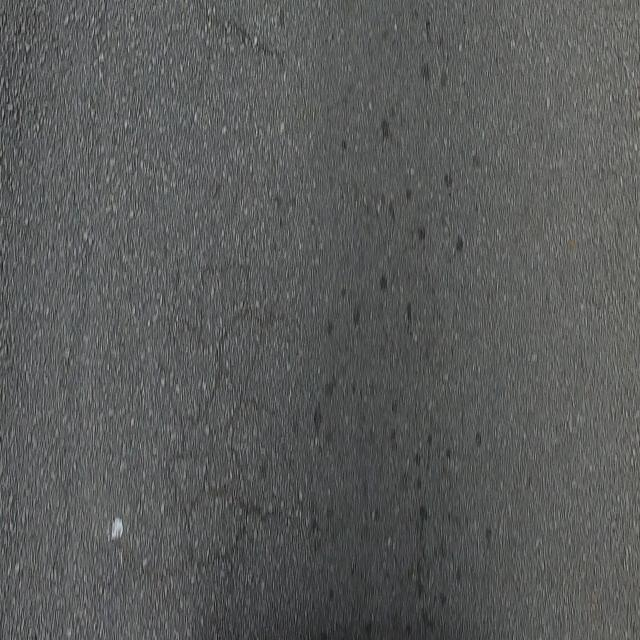Retak-Buaya: (142, 249, 306, 587)
